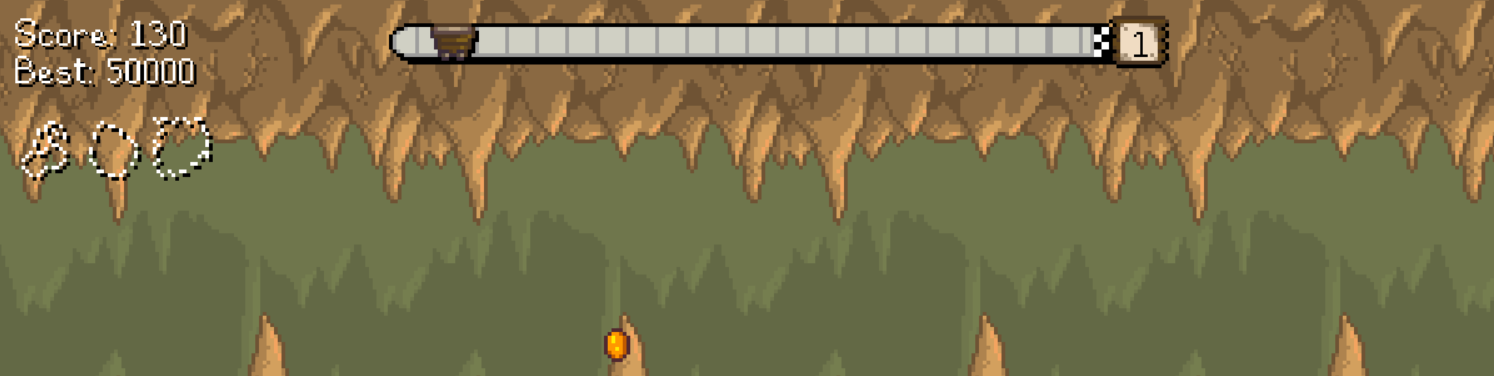coins: (605, 329, 630, 361)
score: (125, 16, 193, 52)
